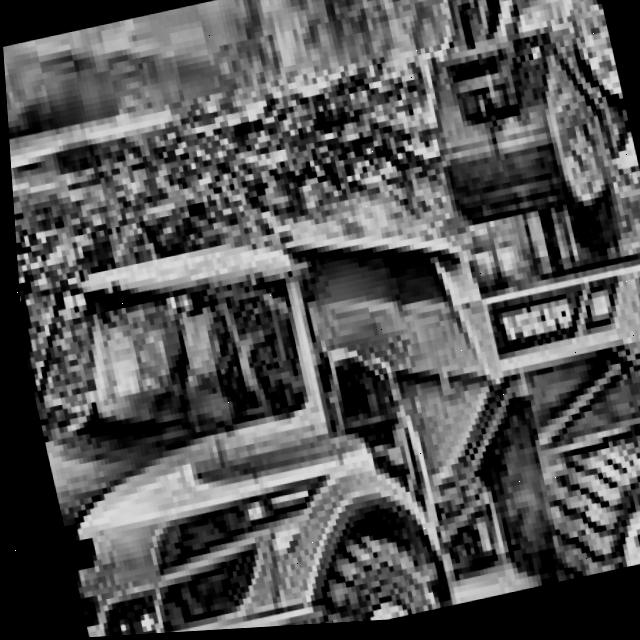dump_truck: (8, 126, 640, 640)
excavator: (385, 0, 640, 549)
